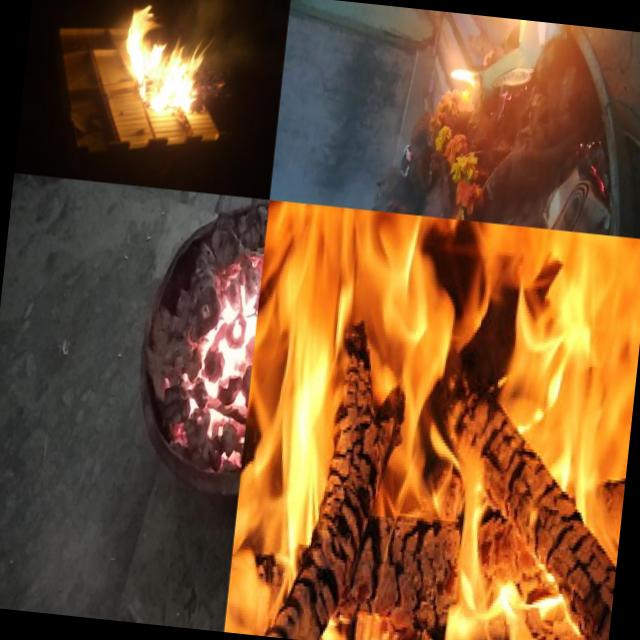fire: (224, 204, 640, 640), (166, 258, 262, 462), (116, 0, 210, 122), (280, 4, 308, 101)
smoke: (287, 0, 384, 209)
